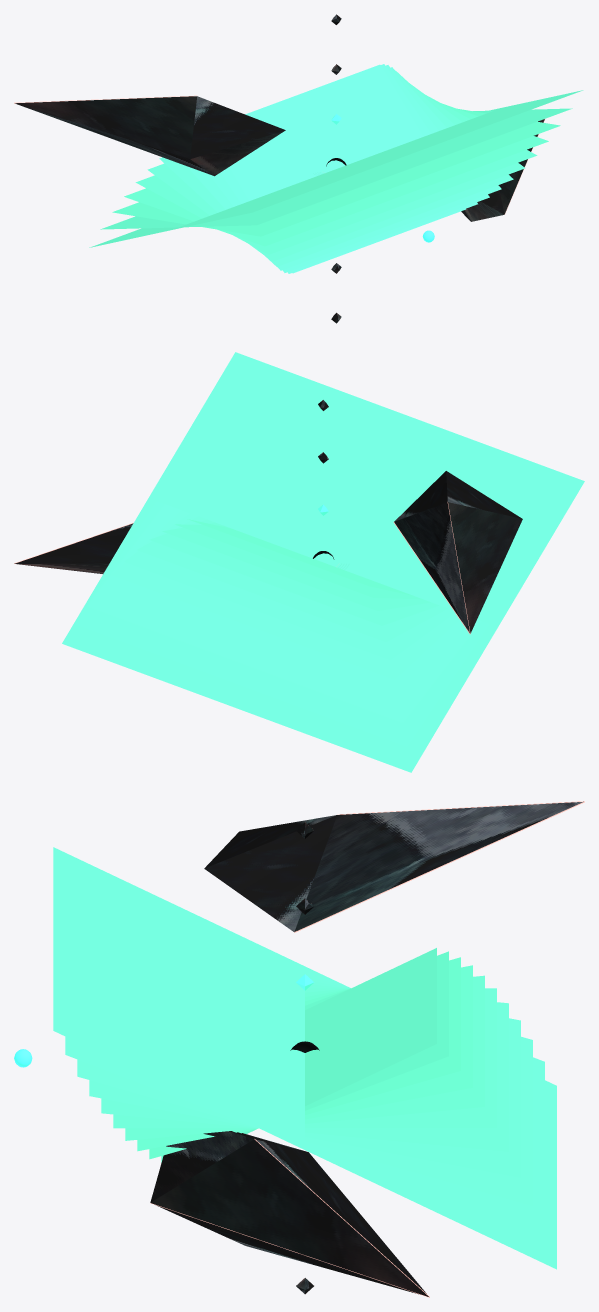
Rendered from 08_forschung.glb.
3 views of the same model, one above another, from view 1: azimuth 30°, elevation 25°; view 2: azimuth 150°, elevation 25°; view 3: azimuth 270°, elevation 25° (orthographic). The views are drawn at different scales.
Parts seen in each view (by area): view 1: sensor_array; view 2: sensor_array; view 3: sensor_array.
Boxes of the visible parts, box(x1,y1,x2,y2) form: sensor_array: box(14, 14, 583, 323); sensor_array: box(14, 352, 584, 772); sensor_array: box(53, 801, 584, 1297).
Size of the model in its own units: 13.2 by 8.06 by 8.83.
7 materials, 3 textured.
